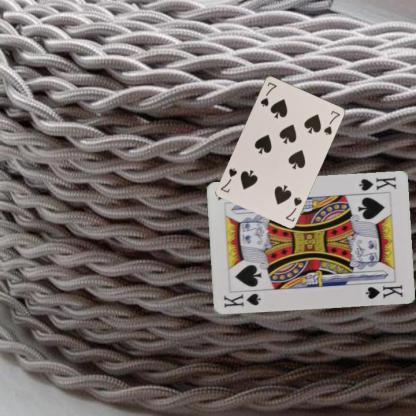7s: (258, 79, 278, 108), (282, 194, 302, 223)
Ks: (221, 291, 261, 310), (356, 174, 398, 192)
